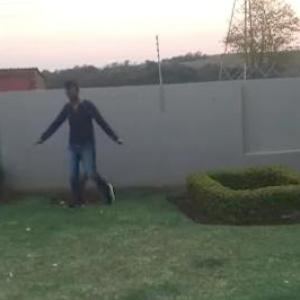land: (36, 94, 124, 216)
